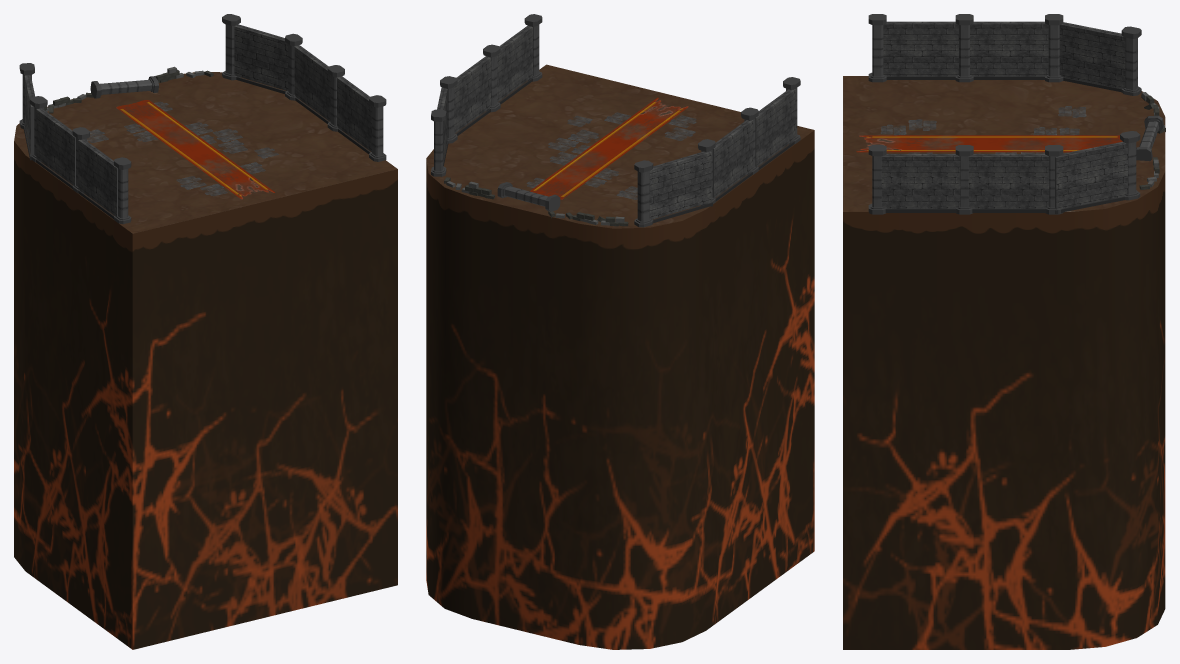
File: Plataforma Inicio.fbx
The picture shows the model from 3 angles, left to right: view 1: azimuth 30°, elevation 25°; view 2: azimuth 150°, elevation 25°; view 3: azimuth 270°, elevation 25°; orthographic projection. The views are drawn at different scales.
Parts seen in each view (by area): view 1: Plataforma Inicio.003, Plane.015, Muro3.003, Muro5.002, Muro4.002, Muro2.002, Muro.008, Pilar7.001, Pilar.007, Pilar4.003, Muro6.004, Pilar3.004 (+2 smaller); view 2: Plataforma Inicio.003, Plane.015, Muro6.004, Muro5.002, Muro4.002, Muro2.002, Muro.008, Pilar6.002, Pilar7.001, Pilar3.004, Pilar2.002, Pilar.007 (+1 smaller); view 3: Plataforma Inicio.003, Muro2.002, Muro.008, Muro5.002, Muro4.002, Muro3.003, Plane.015, Muro6.004, Pilar6.002, Pilar4.003, Pilar5.002, Pilar4.002 (+5 smaller).
Boxes of the visible parts, <box> form: Plataforma Inicio.003: <box>14,72,397,649</box>; Plane.015: <box>116,100,274,199</box>; Muro3.003: <box>234,24,288,93</box>; Muro5.002: <box>36,108,75,188</box>; Muro4.002: <box>78,139,117,219</box>; Muro2.002: <box>294,45,330,123</box>; Muro.008: <box>337,76,371,153</box>; Pilar7.001: <box>90,76,158,98</box>; Pilar.007: <box>369,95,386,161</box>; Pilar4.003: <box>114,157,131,224</box>; Muro6.004: <box>23,75,35,160</box>; Pilar3.004: <box>222,14,240,80</box>; Plataforma Inicio.003: <box>426,64,814,649</box>; Plane.015: <box>530,97,688,199</box>; Muro6.004: <box>649,151,712,222</box>; Muro5.002: <box>712,120,753,201</box>; Muro4.002: <box>755,89,795,169</box>; Muro2.002: <box>454,56,491,135</box>; Muro.008: <box>497,25,532,104</box>; Pilar6.002: <box>634,160,653,227</box>; Pilar7.001: <box>497,182,560,211</box>; Pilar3.004: <box>431,109,446,176</box>; Pilar2.002: <box>440,76,457,143</box>; Pilar.007: <box>524,14,542,81</box>; Plataforma Inicio.003: <box>843,76,1165,649</box>; Muro2.002: <box>968,154,1049,212</box>; Muro.008: <box>881,154,960,212</box>; Muro5.002: <box>970,21,1048,79</box>; Muro4.002: <box>883,21,958,79</box>; Muro3.003: <box>1055,142,1127,214</box>; Plane.015: <box>856,135,1122,152</box>; Muro6.004: <box>1059,22,1125,92</box>; Pilar6.002: <box>1121,26,1141,95</box>; Pilar4.003: <box>868,14,886,82</box>; Pilar5.002: <box>1045,14,1063,82</box>; Pilar4.002: <box>955,14,973,82</box>.
Size of the model in its own units: 1017 by 1712 by 1002.
